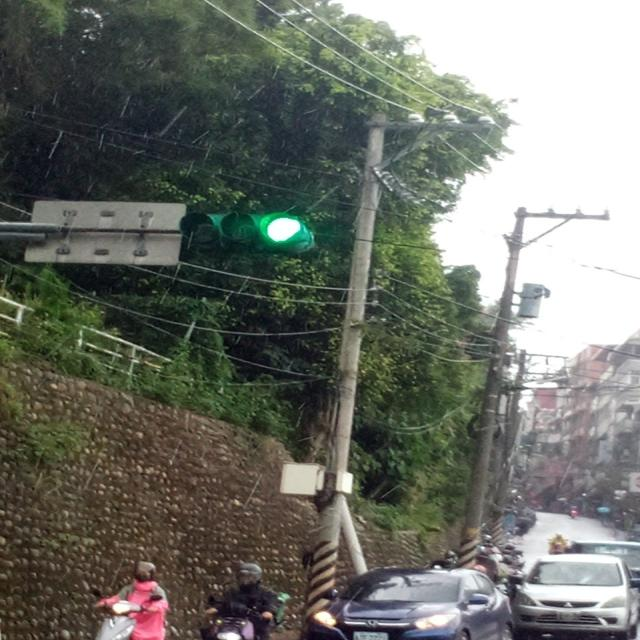green light: (171, 212, 313, 248)
